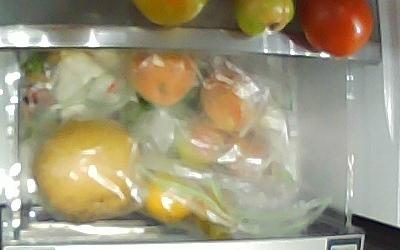peach_vinyl: (201, 69, 260, 133), (130, 49, 195, 106)
pear_vinyl: (34, 119, 140, 223)
tangerine_vinyl: (145, 174, 194, 224)
tomato_vinyl: (177, 120, 225, 170)
